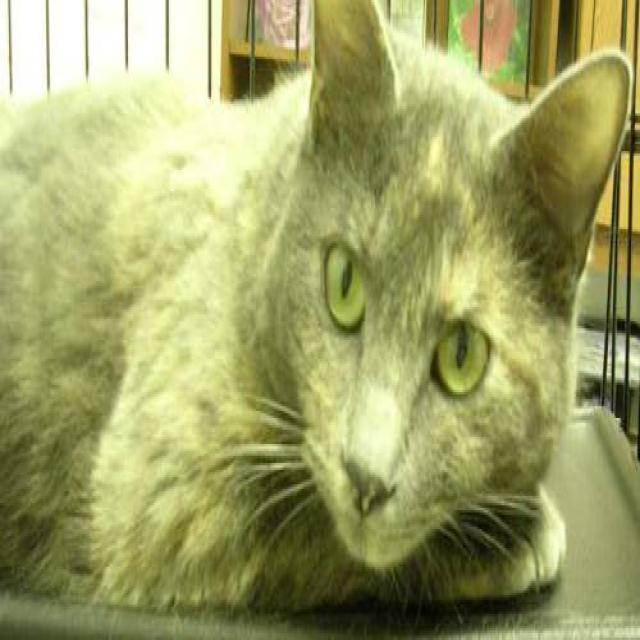Cat: (292, 0, 634, 617)
